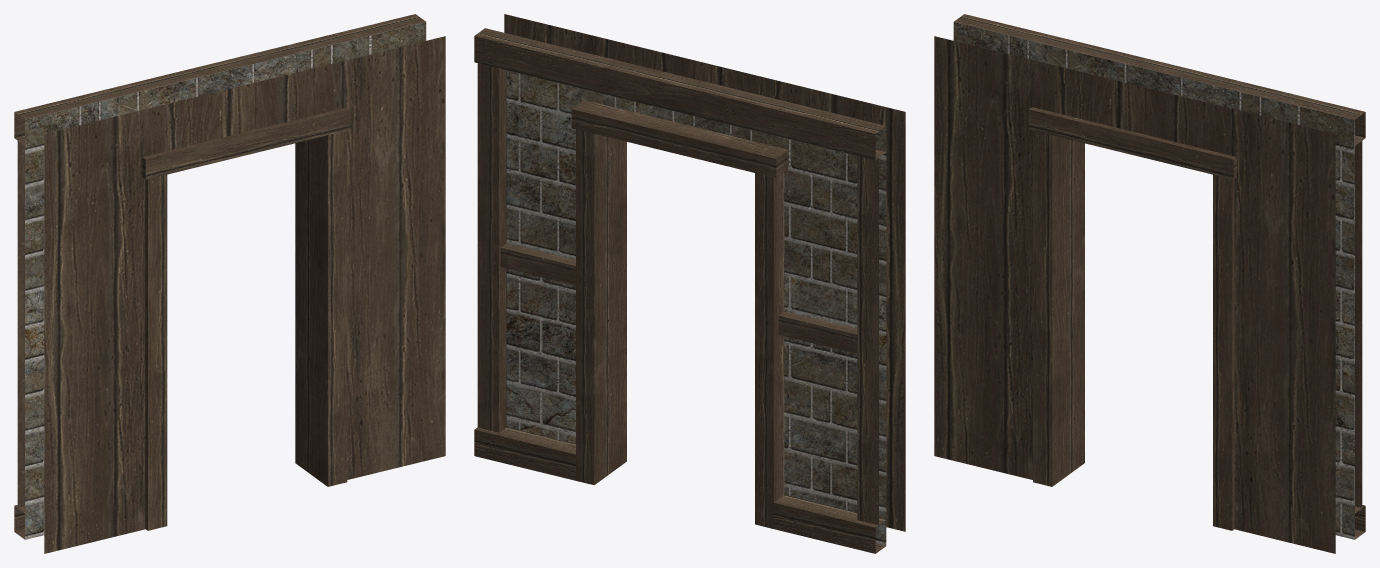
Rendered from ARC1010217.fbx.
3 views of the same model, side by side, from view 1: azimuth 30°, elevation 25°; view 2: azimuth 150°, elevation 25°; view 3: azimuth 330°, elevation 25° (orthographic).
Visible parts, largest first — view 1: smARC1010217; view 2: smARC1010217; view 3: smARC1010217.
Boxes of the visible parts, left/top/right/bottom form: smARC1010217: left=14, top=14, right=445, bottom=553; smARC1010217: left=474, top=14, right=905, bottom=553; smARC1010217: left=934, top=14, right=1365, bottom=553.
Size of the model in its own units: 268 by 268 by 40.27.
1 material, 1 textured.
